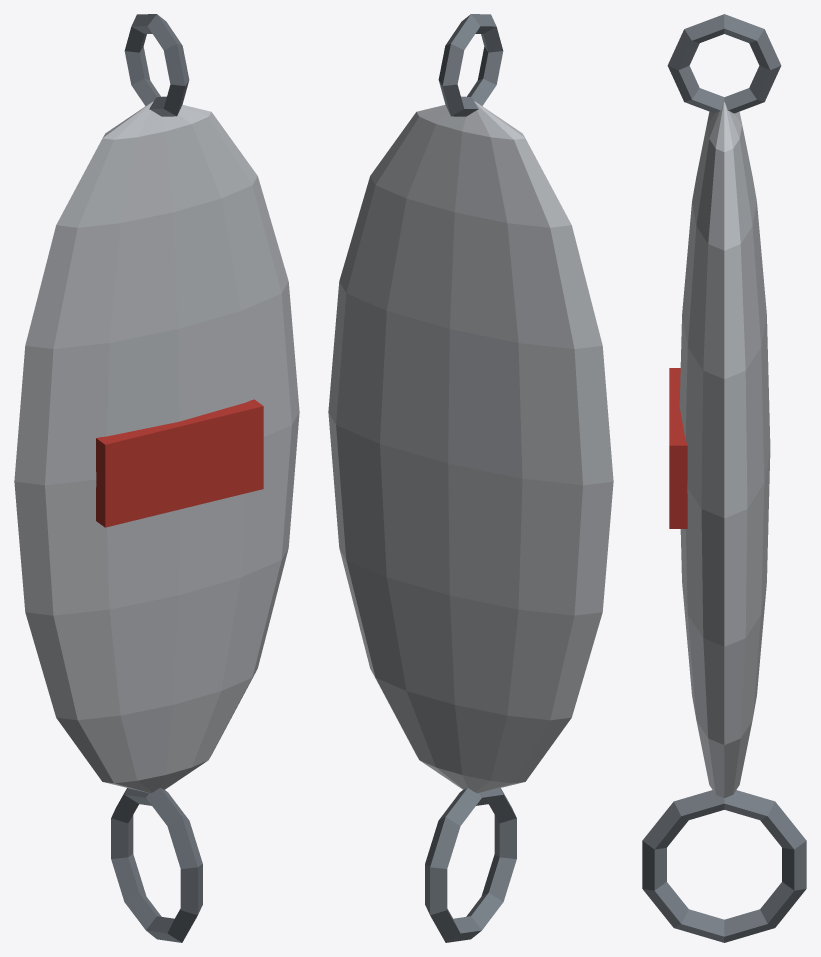
Rendered from bait-lure.glb.
The picture shows the model from 3 angles, left to right: view 1: azimuth 30°, elevation 25°; view 2: azimuth 150°, elevation 25°; view 3: azimuth 270°, elevation 25°; orthographic projection.
Parts seen in each view (by area): view 1: bait-lure; view 2: bait-lure; view 3: bait-lure.
Boxes of the visible parts, left/top/right/bottom form: bait-lure: left=14, top=14, right=299, bottom=942; bait-lure: left=328, top=14, right=613, bottom=942; bait-lure: left=642, top=14, right=806, bottom=942.
Bounding box in the file's own units: 0.36 × 1.12 × 0.1788.
